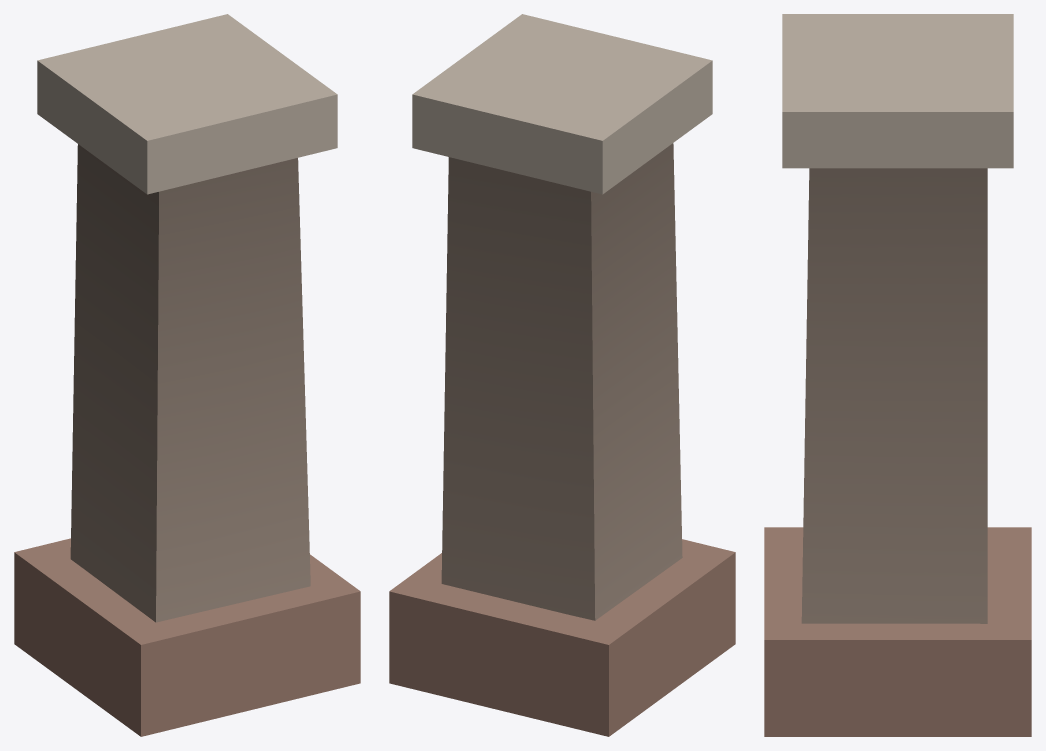
The model's file is load_post.glb.
3 views of the same model, side by side, from view 1: azimuth 30°, elevation 25°; view 2: azimuth 150°, elevation 25°; view 3: azimuth 270°, elevation 25° (orthographic). The views are drawn at different scales.
Parts seen in each view (by area): view 1: load_post; view 2: load_post; view 3: load_post.
Boxes of the visible parts, x1,y1,x2,y2 form: load_post: [14, 14, 360, 736]; load_post: [389, 14, 735, 736]; load_post: [764, 14, 1031, 736].
Size of the model in its own units: 0.6 by 1.54 by 0.6.
